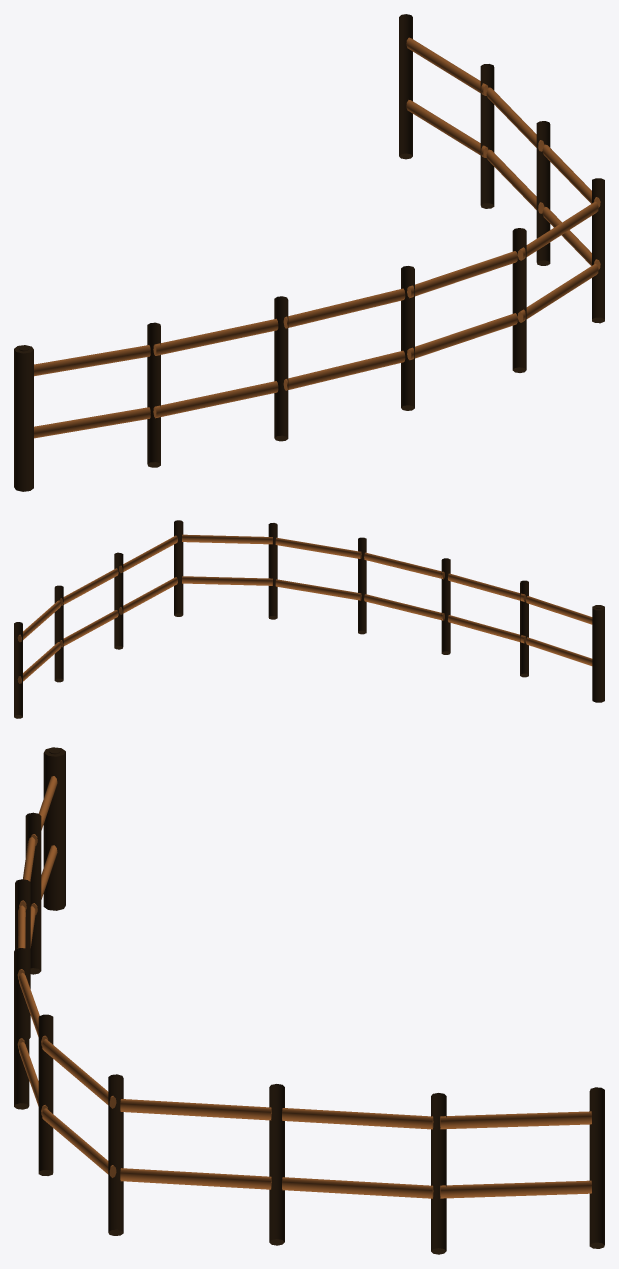
File: Objet Grange#1.FBX
3 views of the same model, one above another, from view 1: azimuth 30°, elevation 25°; view 2: azimuth 150°, elevation 25°; view 3: azimuth 270°, elevation 25° (orthographic). The views are drawn at different scales.
Parts seen in each view (by area): view 1: Barrières; view 2: Barrières; view 3: Barrières.
Part boxes in pixels (x1,y1,x2,y2): Barrières: (14,14,604,491); Barrières: (14,520,604,718); Barrières: (14,747,604,1254).
Size of the model in its own units: 361 by 74.6 by 255.
